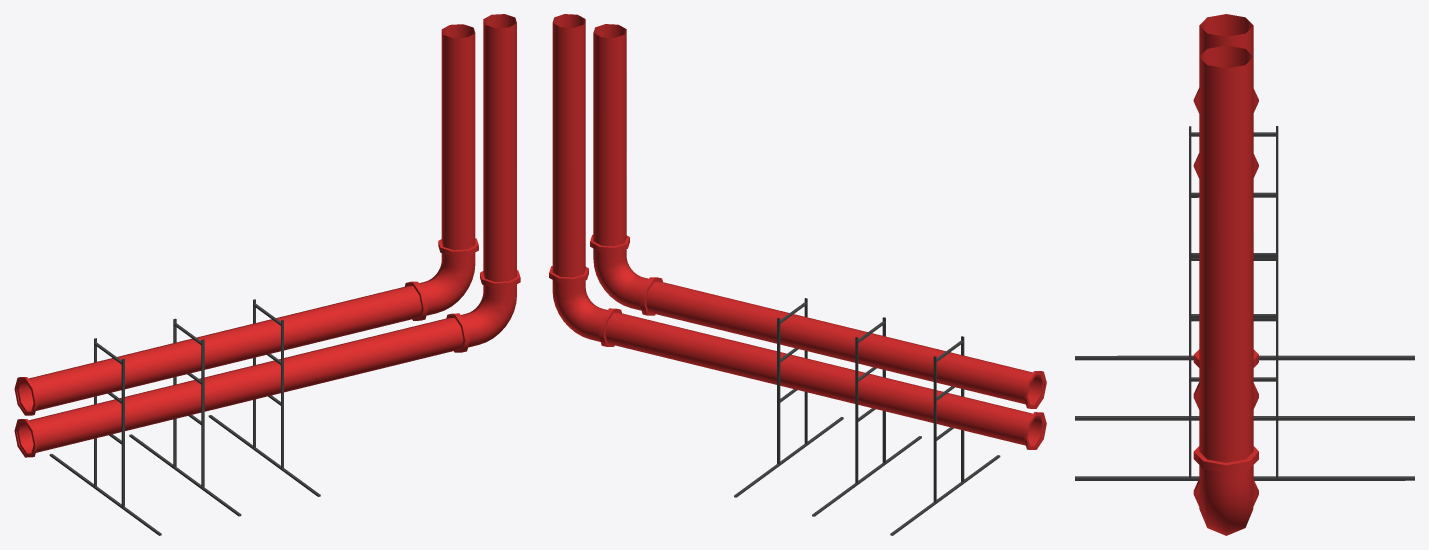
File: SM_H_Building_Tide_Ventilate_04b_ATLAS.fbx
3 views of the same model, side by side, from view 1: azimuth 30°, elevation 25°; view 2: azimuth 150°, elevation 25°; view 3: azimuth 270°, elevation 25° (orthographic). The views are drawn at different scales.
Visible parts, largest first — view 1: SM_H_Building_Tide_Ventilate_04b_ATLAS_LOD0; view 2: SM_H_Building_Tide_Ventilate_04b_ATLAS_LOD0; view 3: SM_H_Building_Tide_Ventilate_04b_ATLAS_LOD0.
Boxes of the visible parts, x1,y1,x2,y2 form: SM_H_Building_Tide_Ventilate_04b_ATLAS_LOD0: (14,14,520,535); SM_H_Building_Tide_Ventilate_04b_ATLAS_LOD0: (549,14,1046,535); SM_H_Building_Tide_Ventilate_04b_ATLAS_LOD0: (1075,14,1414,535).
Bounding box in the file's own units: 1149 × 441 × 855.
